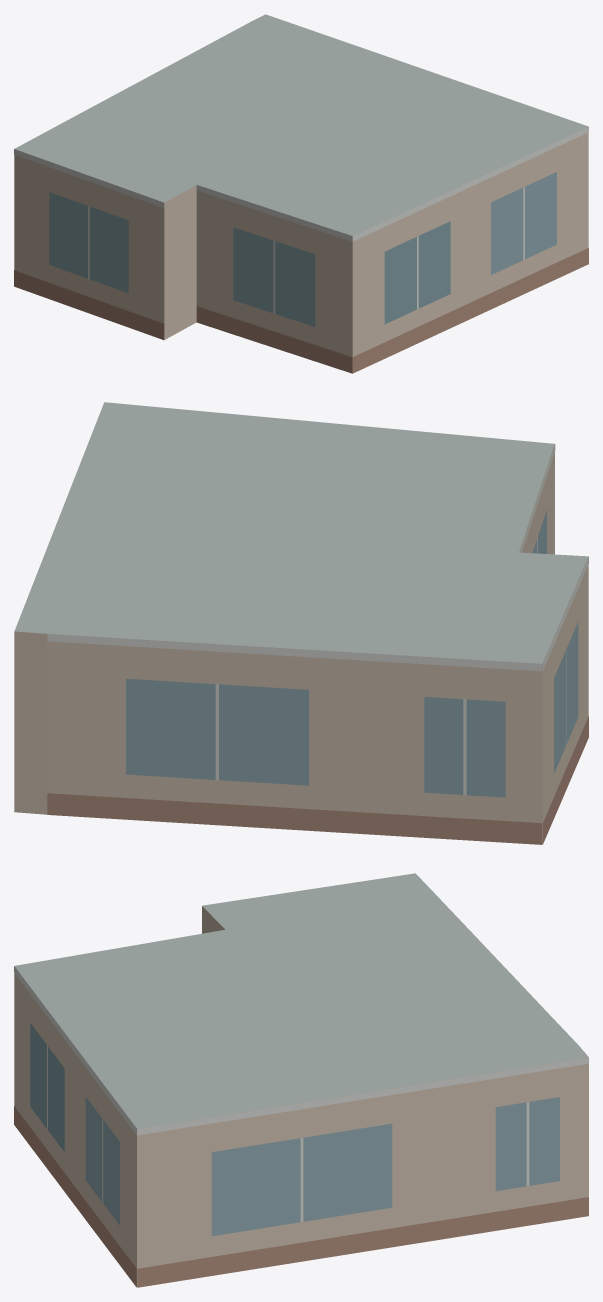
Rendered from survey-upis-33037133.glb.
The picture shows the model from 3 angles, top to bottom: view 1: azimuth 30°, elevation 25°; view 2: azimuth 150°, elevation 25°; view 3: azimuth 270°, elevation 25°; orthographic projection. The views are drawn at different scales.
Visible parts, largest first — view 1: survey-upis-33037133.tmp; view 2: survey-upis-33037133.tmp; view 3: survey-upis-33037133.tmp.
Boxes of the visible parts, box(x1,y1,x2,y2) form: survey-upis-33037133.tmp: box(14, 14, 588, 373); survey-upis-33037133.tmp: box(14, 402, 588, 844); survey-upis-33037133.tmp: box(14, 873, 588, 1287).
Size of the model in its own units: 10.55 by 3.05 by 10.01.
